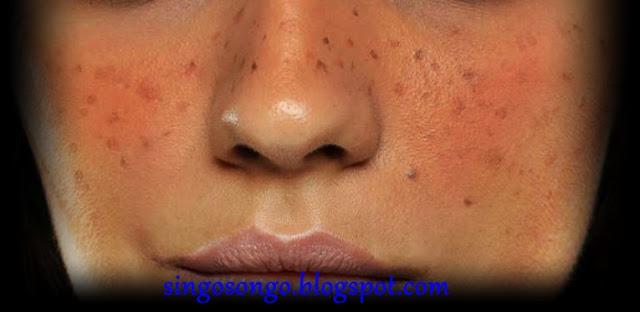Dark-Spots: (33, 33, 591, 197)
